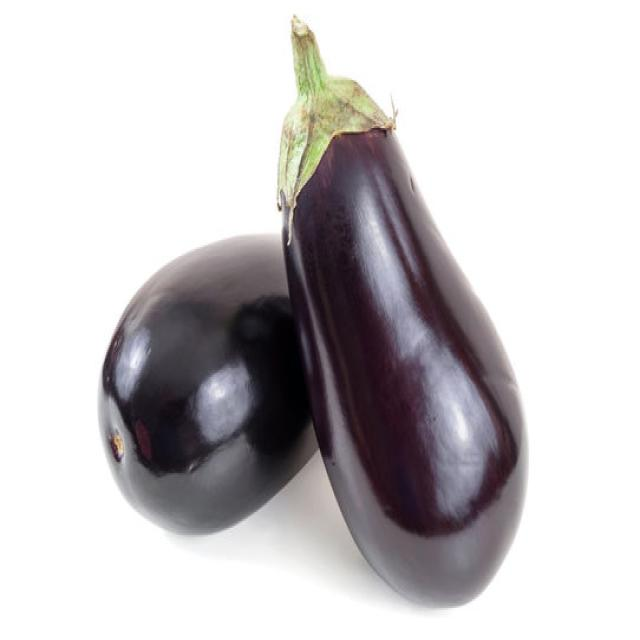Eggplant: (275, 12, 529, 608), (96, 229, 318, 535)
